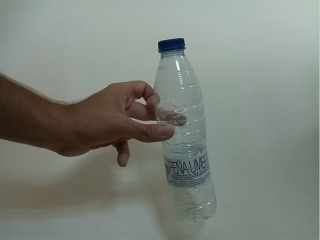botella plastico: (152, 37, 220, 227)
